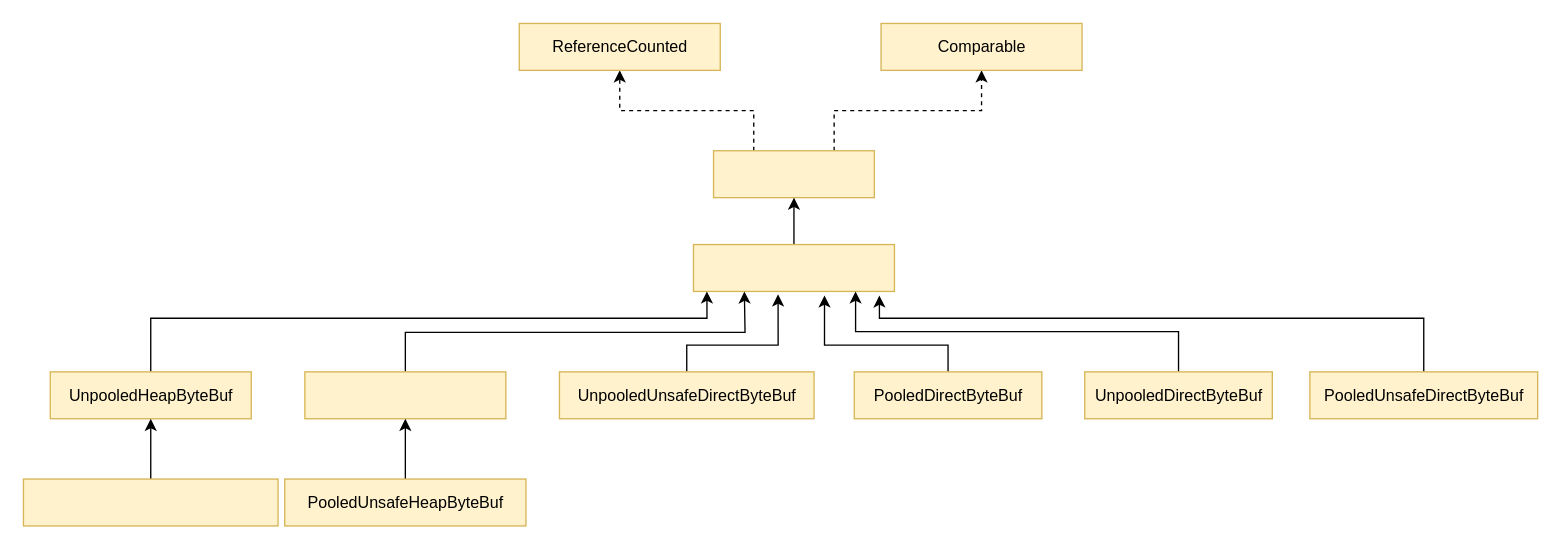
This 1561x549 diagram has some shape labels left out. The centre of each missing label's shape, as x and y in pixels:
"AbstractByteBuf" belongs at (793,267).
"ByteBuf" belongs at (793,173).
"PooledHeapByteBuf" belongs at (405,395).
"UnpooledUnsafeHeapByteBuf" belongs at (150,502).
